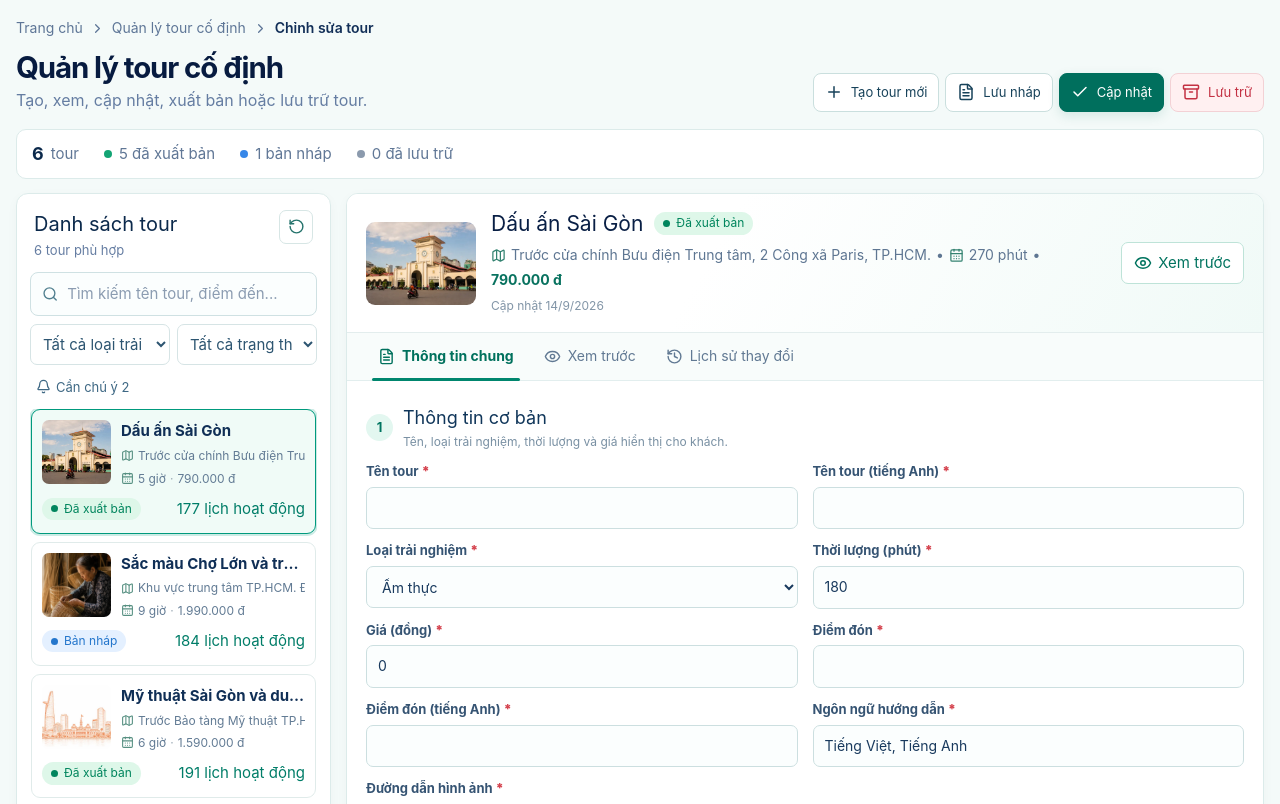
Fixed tour demo UI › searches and resets without removing tour data
Check: the button with aria-label "Xem Dấu ấn Sài Gòn" is shown, box [32, 410, 315, 494]
Type "không-tồn-tại" into the field named "Tìm kiếm tour".
click(186, 294); type("không-tồn-tại")  # box [67, 283, 305, 305]
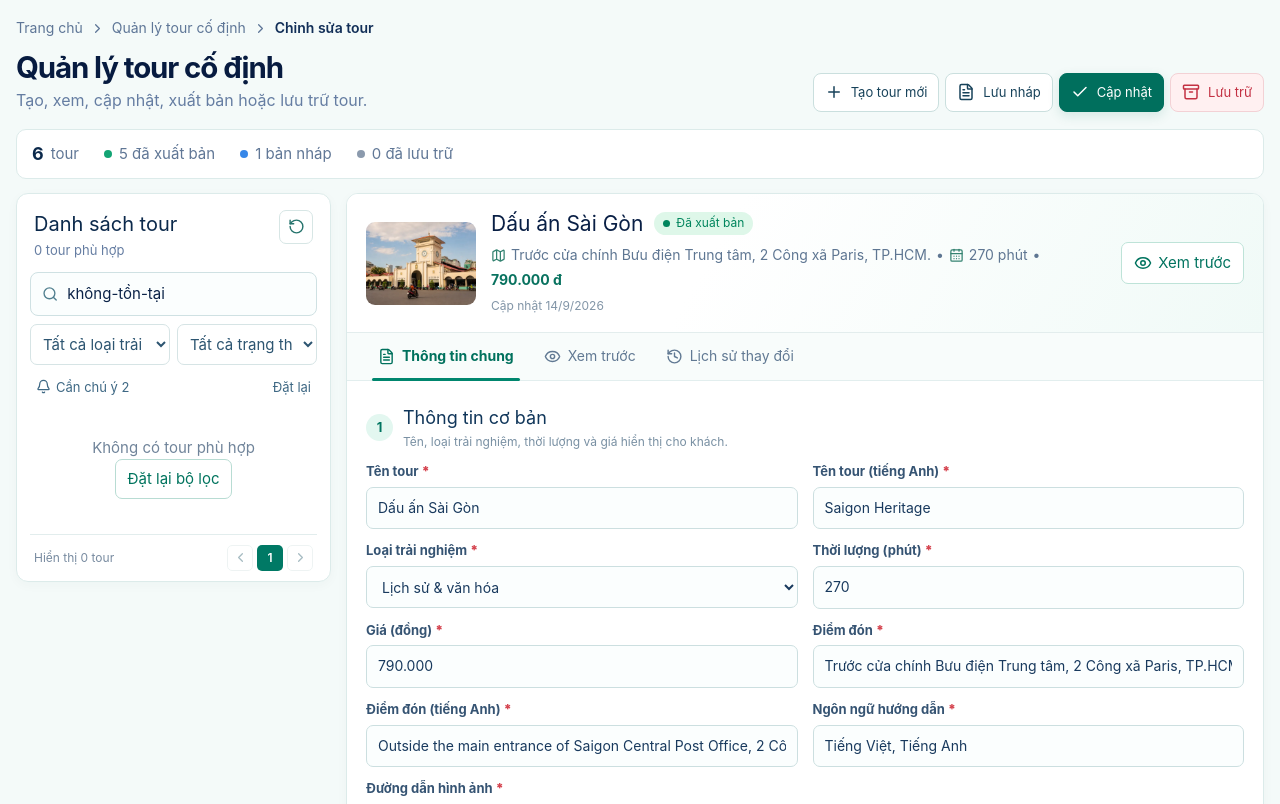
Check: the text "Không có tour phù hợp" is shown, box [92, 438, 255, 457]
Click the button "Đặt lại".
click(292, 387)  # box [269, 374, 315, 400]
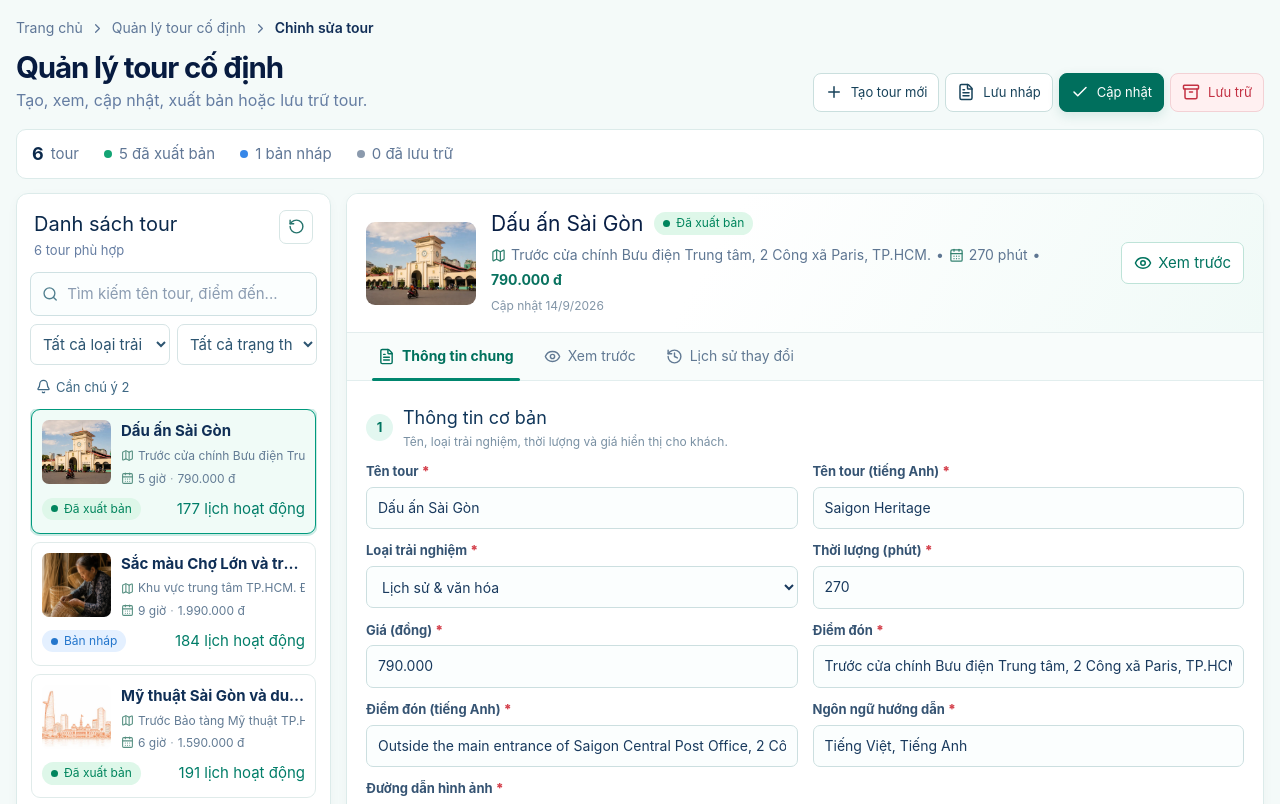
Check: the button with aria-label "Xem Dấu ấn Sài Gòn" is shown, box [32, 410, 315, 494]
